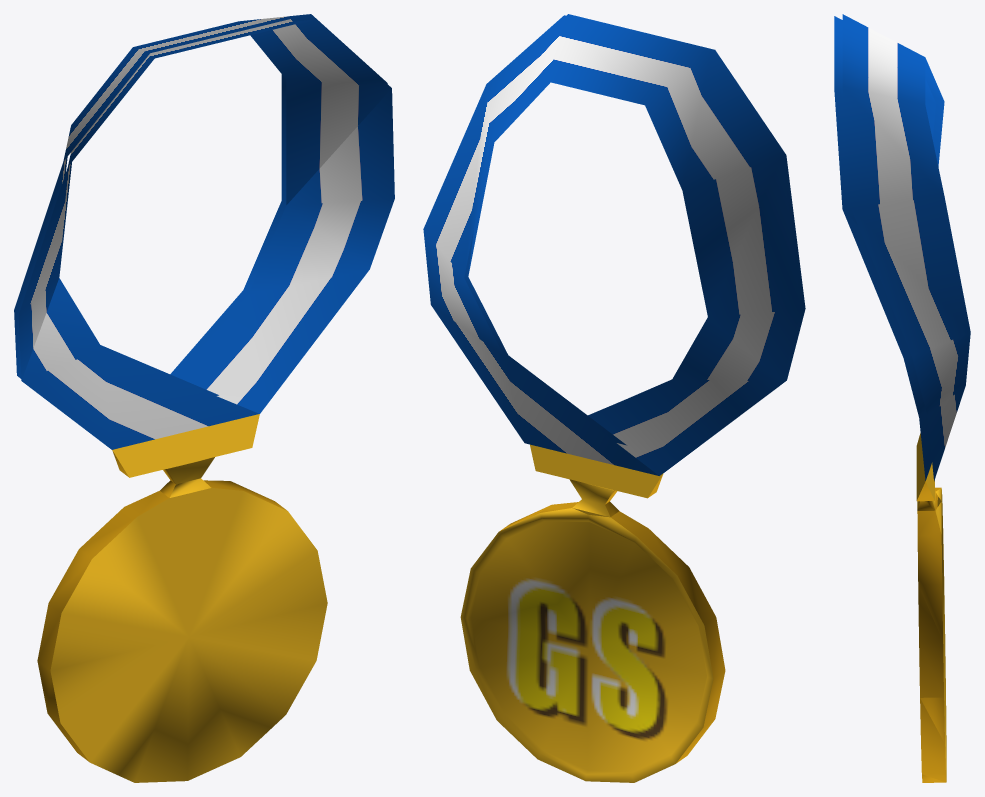
The model's file is icon1.ico.obj.
3 views of the same model, side by side, from view 1: azimuth 30°, elevation 25°; view 2: azimuth 150°, elevation 25°; view 3: azimuth 270°, elevation 25° (orthographic). The views are drawn at different scales.
Bounding box in the file's own units: 2.41 × 4.53 × 0.78.
1 material, 1 textured.
